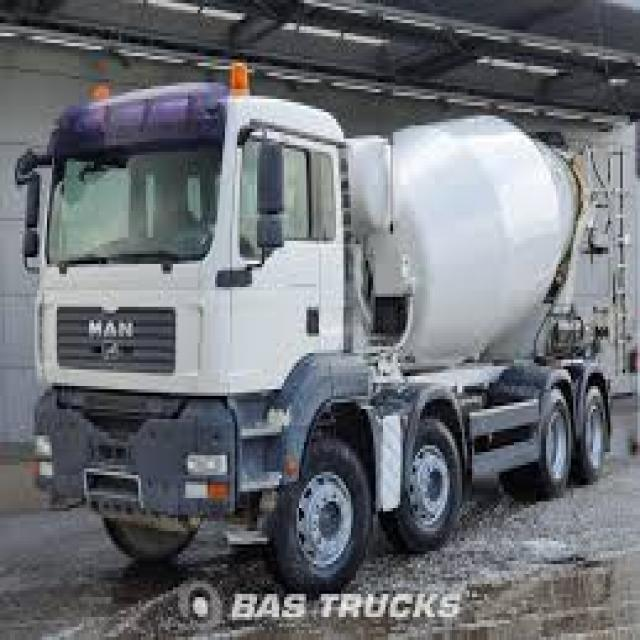Mixer Truck: (11, 58, 630, 596)
